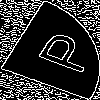P: (25, 25, 100, 76)
